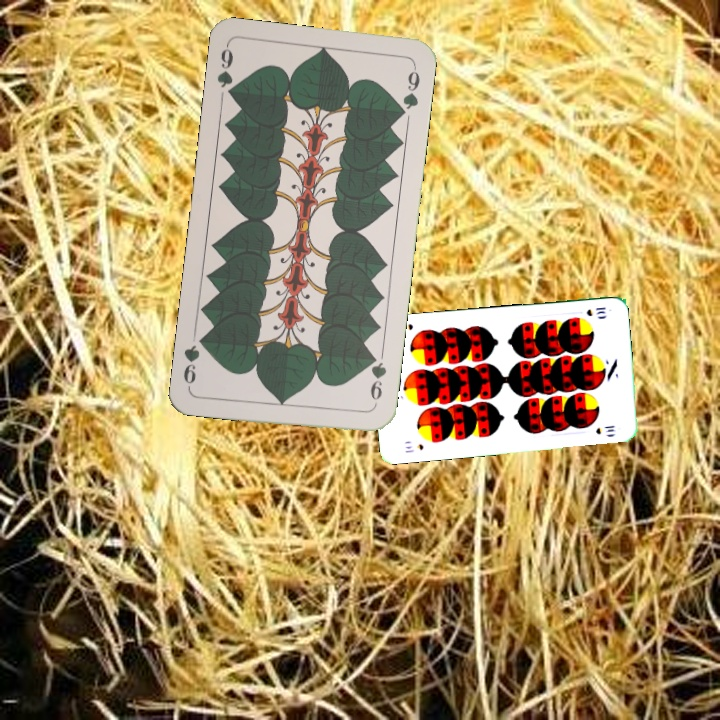G9: (213, 42, 238, 102), (366, 350, 389, 410)
S10: (582, 303, 608, 319), (401, 440, 426, 455)
